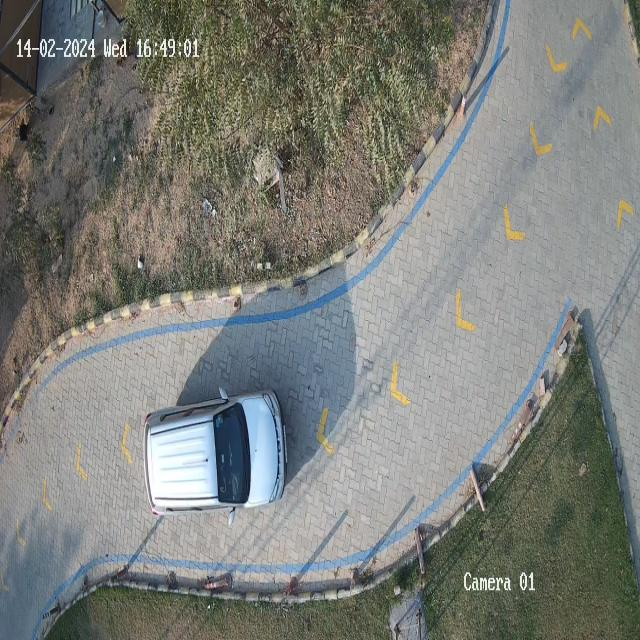car: (143, 394, 285, 514)
